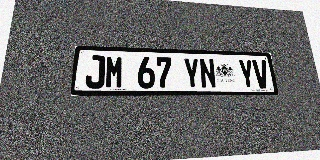6: (138, 56, 155, 89)
7: (155, 57, 173, 89)
J: (85, 55, 105, 89)
M: (105, 56, 124, 89)
N: (199, 58, 217, 89)
V: (252, 60, 270, 89)
Y: (183, 58, 201, 89), (238, 59, 256, 89)
